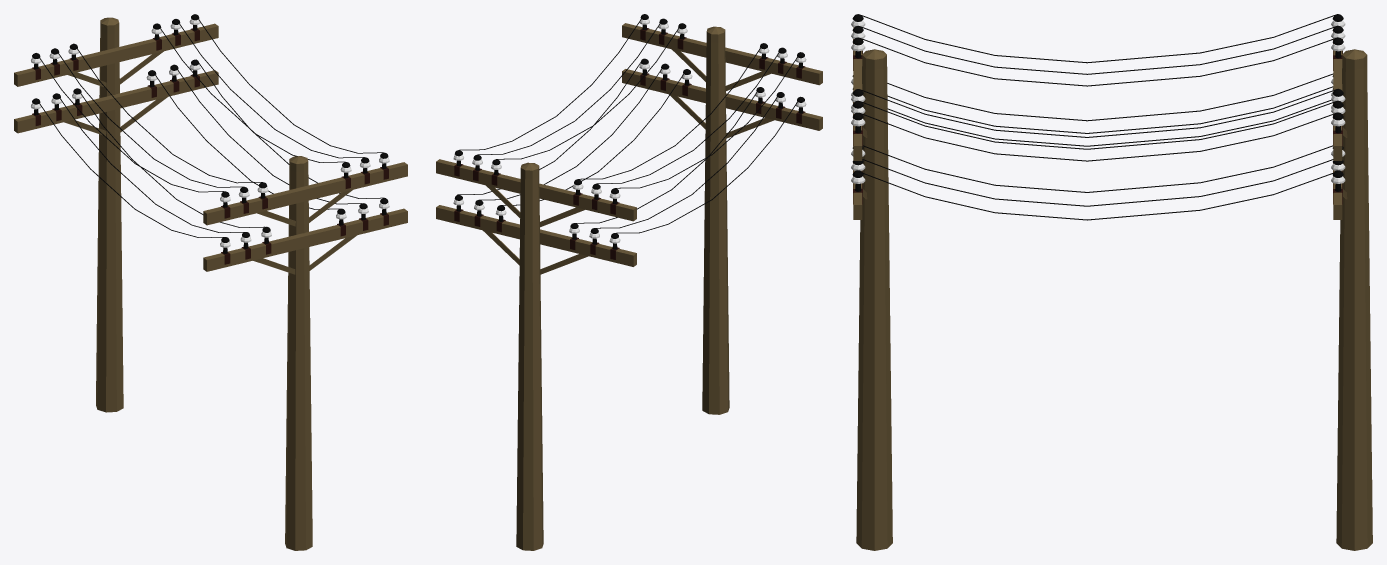
The model's file is telephonePole.obj.
3 renders of one model, left to right at view 1: azimuth 30°, elevation 25°; view 2: azimuth 150°, elevation 25°; view 3: azimuth 270°, elevation 25°, orthographic. The views are drawn at different scales.
Size of the model in its own units: 5.87 by 10.85 by 10.4.
